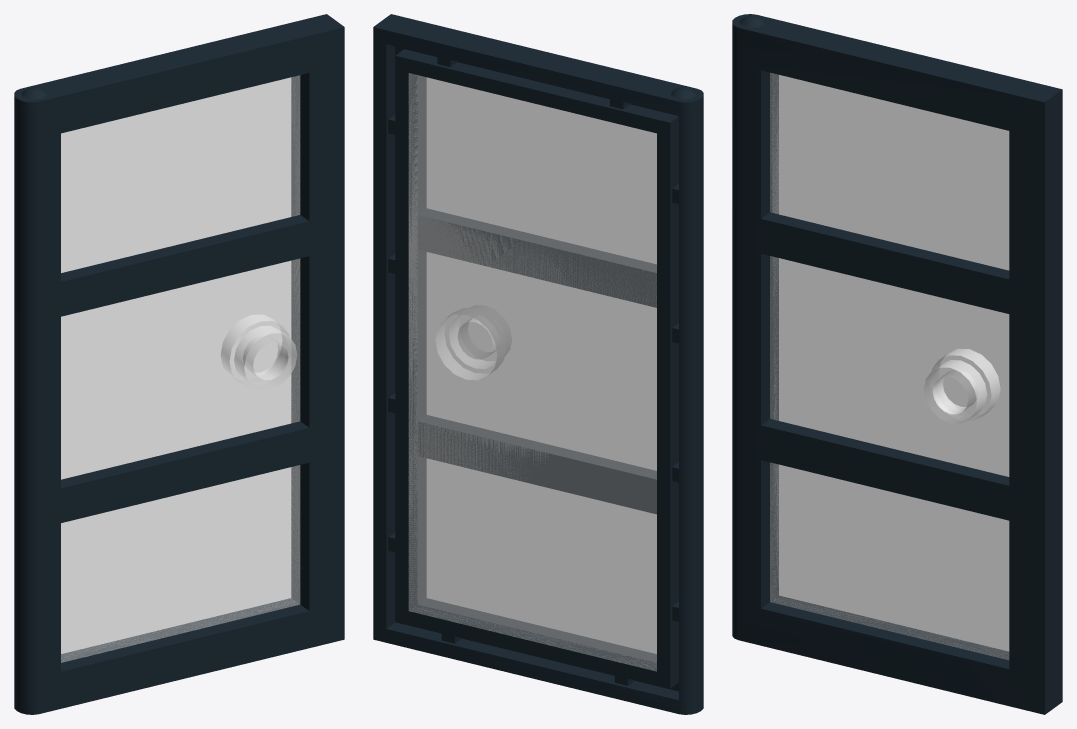
The model's file is NormalDoor.dae.
The picture shows the model from 3 angles, left to right: view 1: azimuth 30°, elevation 25°; view 2: azimuth 150°, elevation 25°; view 3: azimuth 330°, elevation 25°; orthographic projection.
Size of the model in its own units: 72 by 11 by 134.
